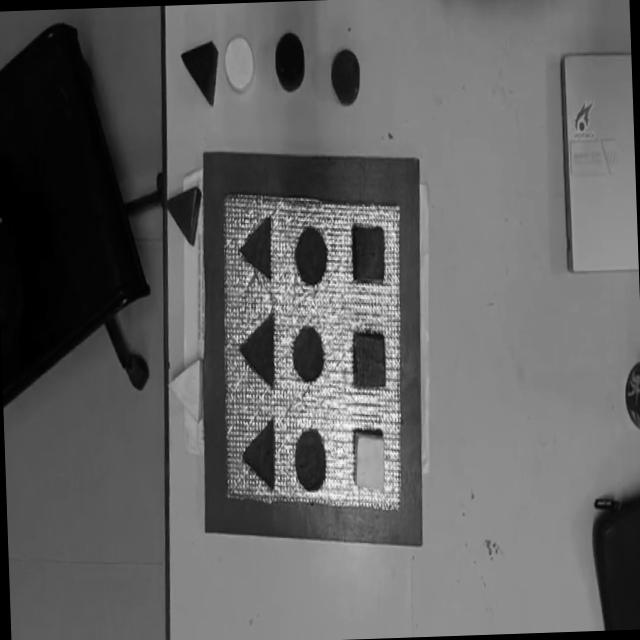bcircle: (274, 31, 306, 92)
bcube: (351, 223, 386, 285)
btriangle: (179, 39, 219, 107), (164, 184, 203, 247)
mtcircle: (294, 426, 328, 492), (292, 224, 328, 286), (290, 324, 326, 383)
mttriangle: (236, 312, 278, 388), (240, 418, 278, 494), (238, 215, 274, 280)
rcircle: (330, 48, 360, 106)
rcube: (352, 330, 388, 390)
wb: (216, 185, 410, 520)
ycircle: (222, 34, 255, 94)
ycube: (352, 428, 386, 493)
ytriangle: (168, 358, 205, 423)
